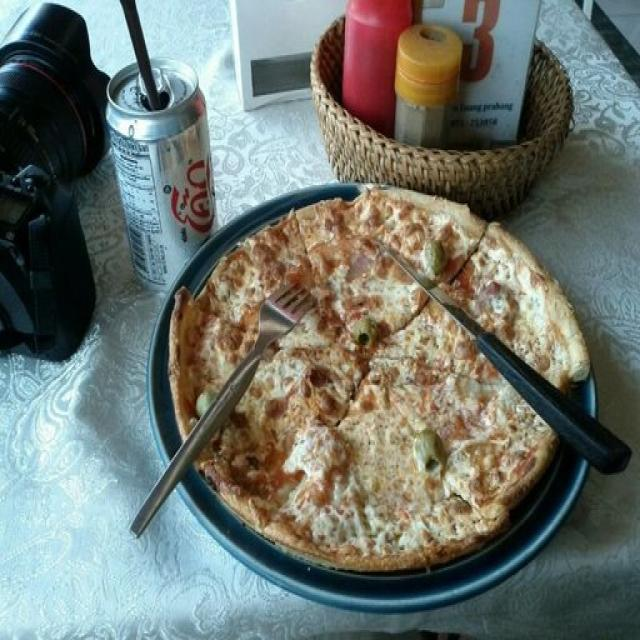Olives: (418, 432, 443, 466), (424, 240, 444, 272), (354, 318, 374, 348), (197, 391, 209, 412)
Pizza: (174, 190, 588, 567)
